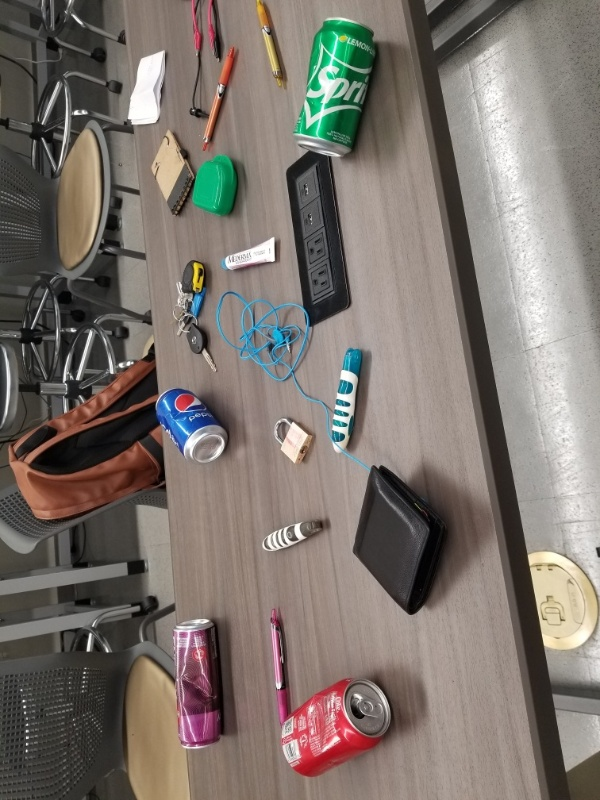can: (272, 674, 396, 779), (293, 17, 381, 161), (168, 614, 231, 750), (153, 385, 229, 464)
